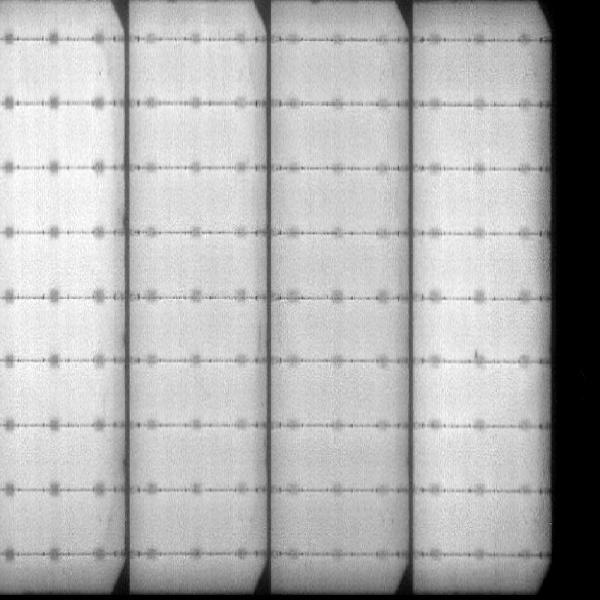no_electricity: (550, 3, 600, 597)
